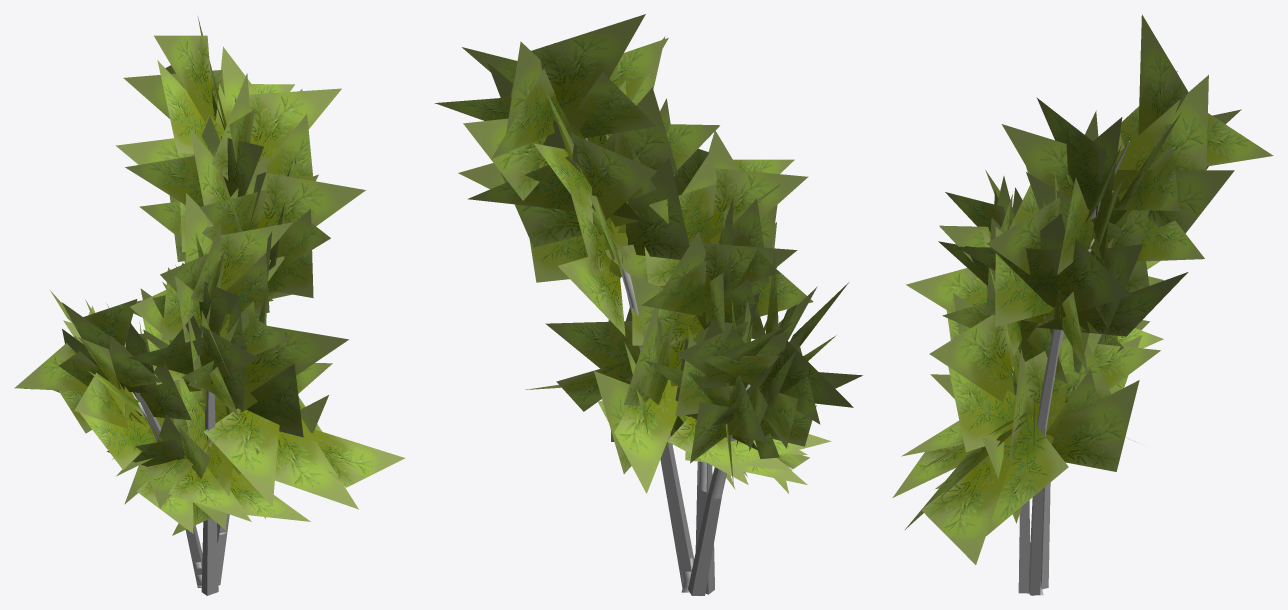
The model's file is JiaYeSiWai1_ZhuZi_1.FBX.
The picture shows the model from 3 angles, left to right: view 1: azimuth 30°, elevation 25°; view 2: azimuth 150°, elevation 25°; view 3: azimuth 270°, elevation 25°; orthographic projection. The views are drawn at different scales.
Visible parts, largest first — view 1: JiaYeSiWai1_ZhuZi_1a, JiaYeSiWai1_ZhuZi_1a_Xzm; view 2: JiaYeSiWai1_ZhuZi_1a, JiaYeSiWai1_ZhuZi_1a_Xzm, JiaYeSiWai1_ZhuZi_1b; view 3: JiaYeSiWai1_ZhuZi_1a, JiaYeSiWai1_ZhuZi_1a_Xzm.
Part boxes in pixels (x1,y1,x2,y2): JiaYeSiWai1_ZhuZi_1a: (14, 16, 405, 535); JiaYeSiWai1_ZhuZi_1a_Xzm: (134, 98, 236, 595); JiaYeSiWai1_ZhuZi_1a: (435, 14, 862, 493); JiaYeSiWai1_ZhuZi_1a_Xzm: (585, 138, 726, 595); JiaYeSiWai1_ZhuZi_1b: (620, 268, 750, 595); JiaYeSiWai1_ZhuZi_1a: (892, 14, 1273, 564); JiaYeSiWai1_ZhuZi_1a_Xzm: (1018, 141, 1129, 595).
Size of the model in its own units: 667 by 992 by 596.
